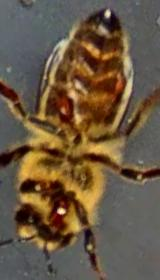varroa_mite: (51, 88, 74, 124), (109, 66, 131, 98)
